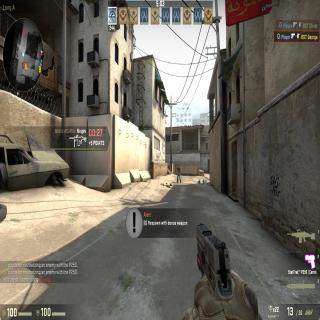T-Body: (177, 164, 181, 183)
T-Head: (178, 164, 179, 168)
